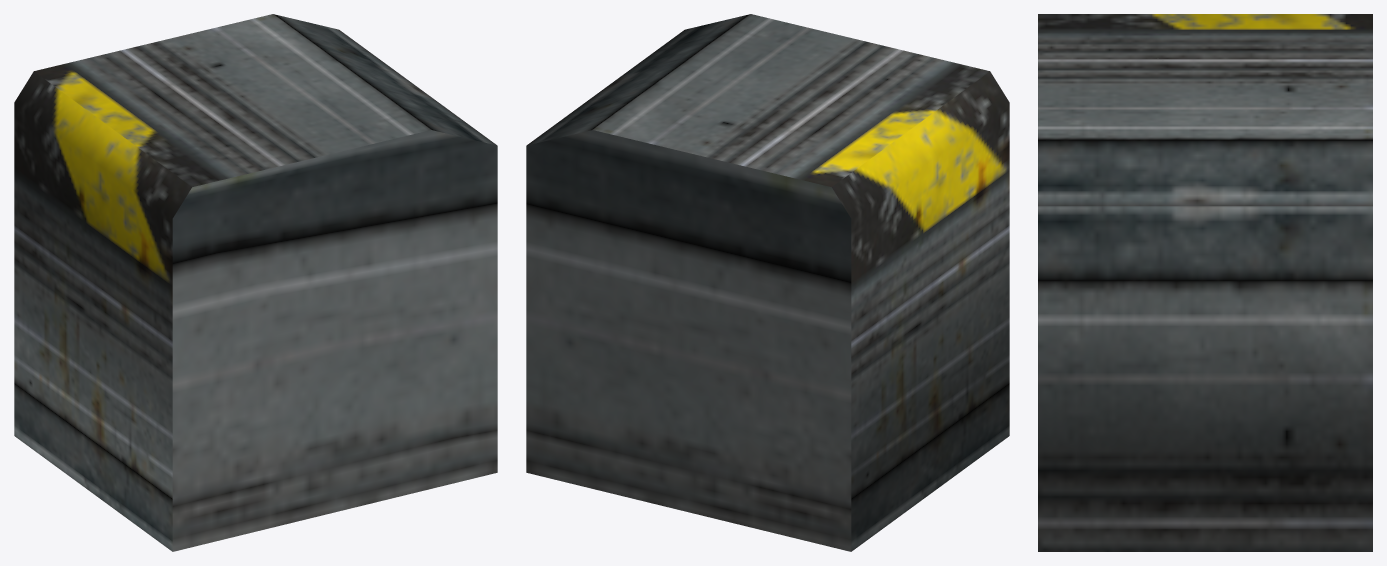
The model's file is Edges_26.fbx.
The picture shows the model from 3 angles, left to right: view 1: azimuth 30°, elevation 25°; view 2: azimuth 150°, elevation 25°; view 3: azimuth 270°, elevation 25°; orthographic projection. The views are drawn at different scales.
Parts seen in each view (by area): view 1: Edges_26; view 2: Edges_26; view 3: Edges_26.
Boxes of the visible parts, x1,y1,x2,y2 form: Edges_26: (14, 14, 497, 551); Edges_26: (526, 14, 1009, 551); Edges_26: (1038, 14, 1372, 551).
Bounding box in the file's own units: 29.6 × 31.33 × 25.
